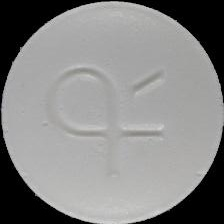0615-7583: (0, 0, 224, 224)
